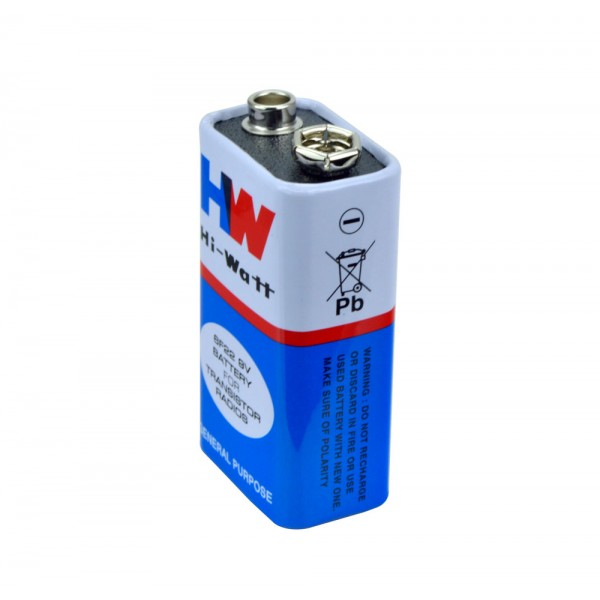9V: (185, 80, 400, 538)
